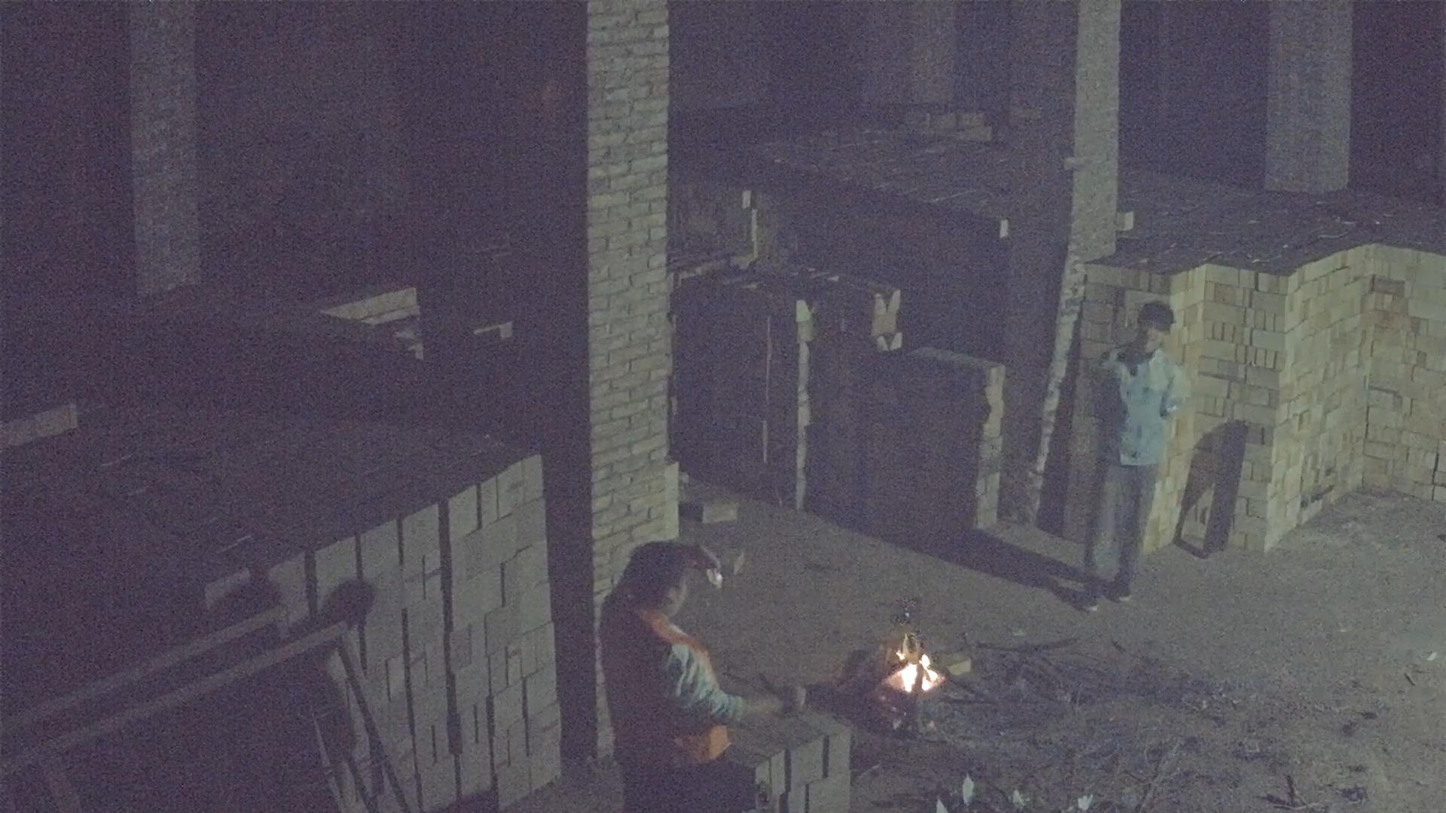fire: (883, 635, 945, 696)
